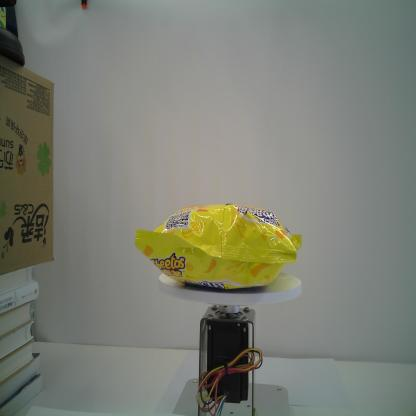Puffed Food: (131, 202, 304, 297)
